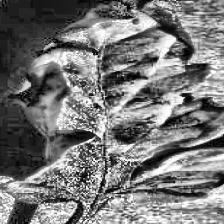disease: (0, 0, 224, 206)
